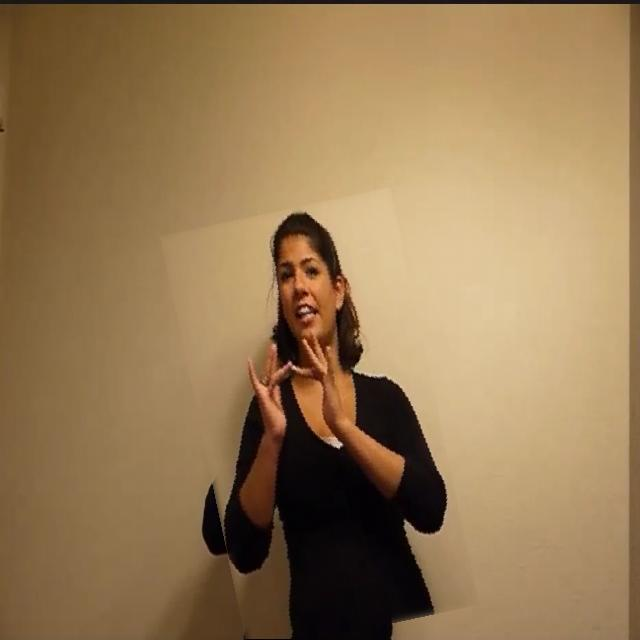Internet: (181, 197, 458, 640)
